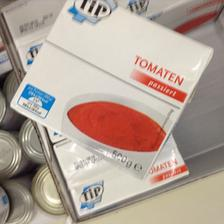Tomatensauce: (8, 0, 214, 180)
